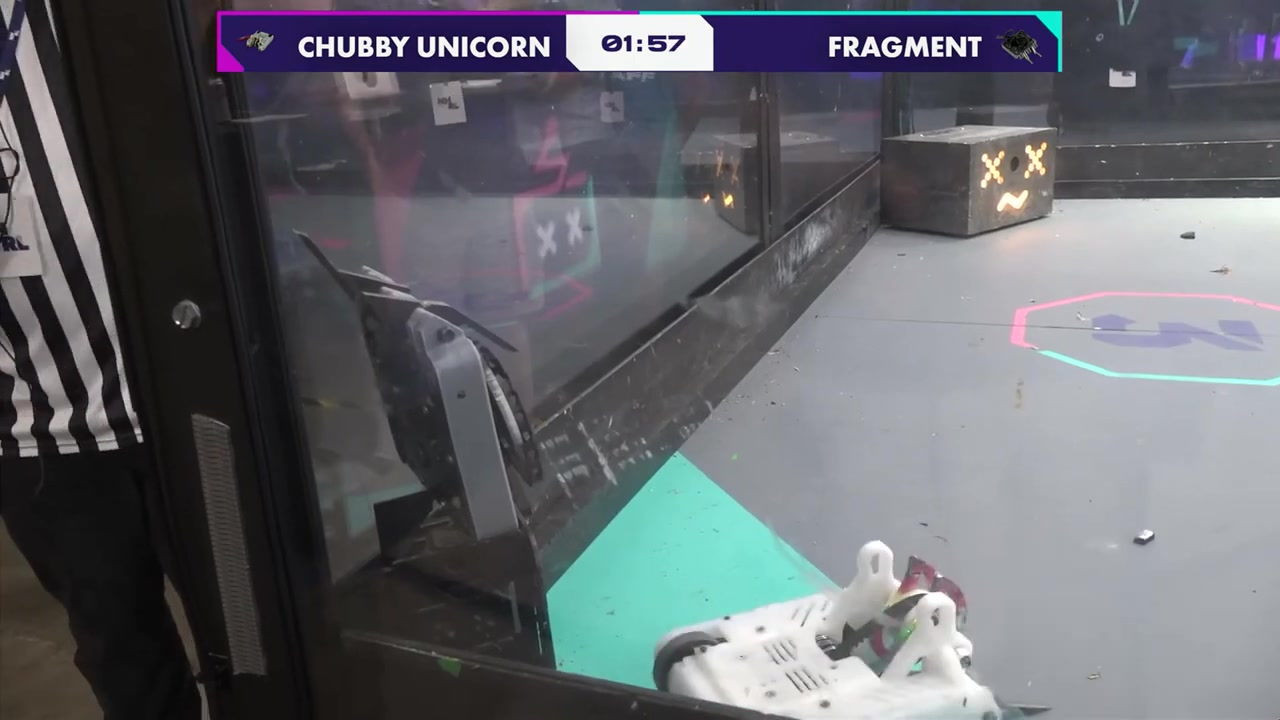combatbot: (292, 266, 547, 536), (656, 540, 1002, 716)
housebot: (880, 127, 1057, 239)
